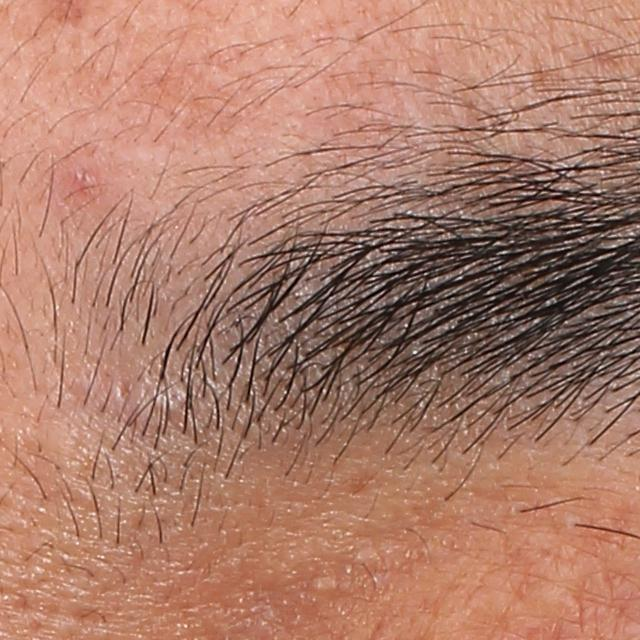papule: (62, 163, 106, 202)
